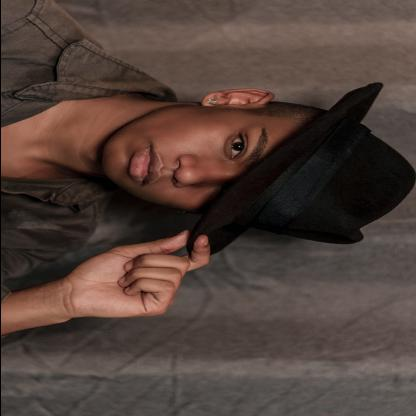Eye: (223, 130, 252, 160)
Mouth: (127, 144, 165, 187)
Nose: (174, 158, 224, 188)
